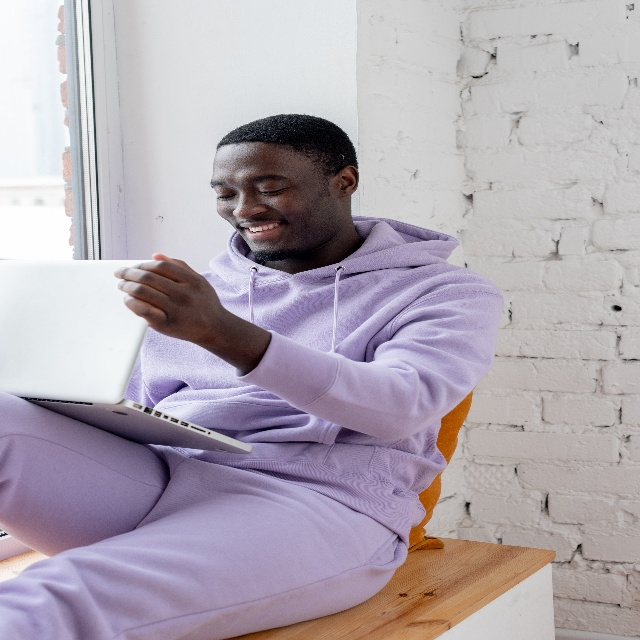Sin_guantes: (113, 243, 224, 362)
